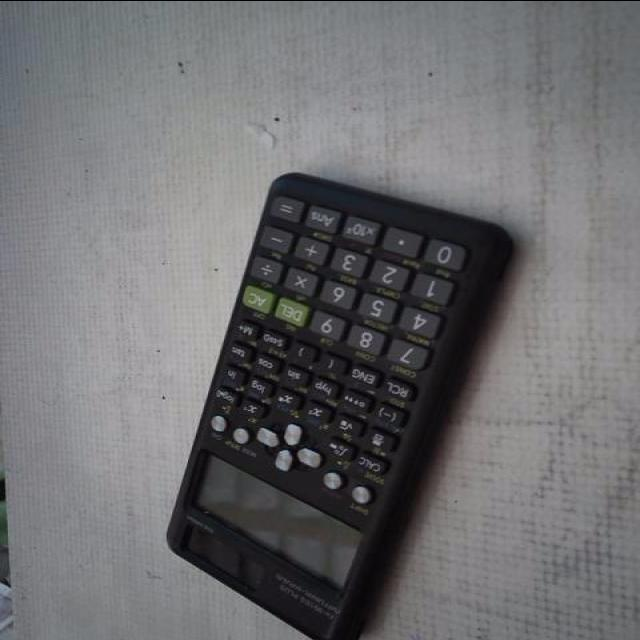Calculator: (162, 168, 518, 640)
